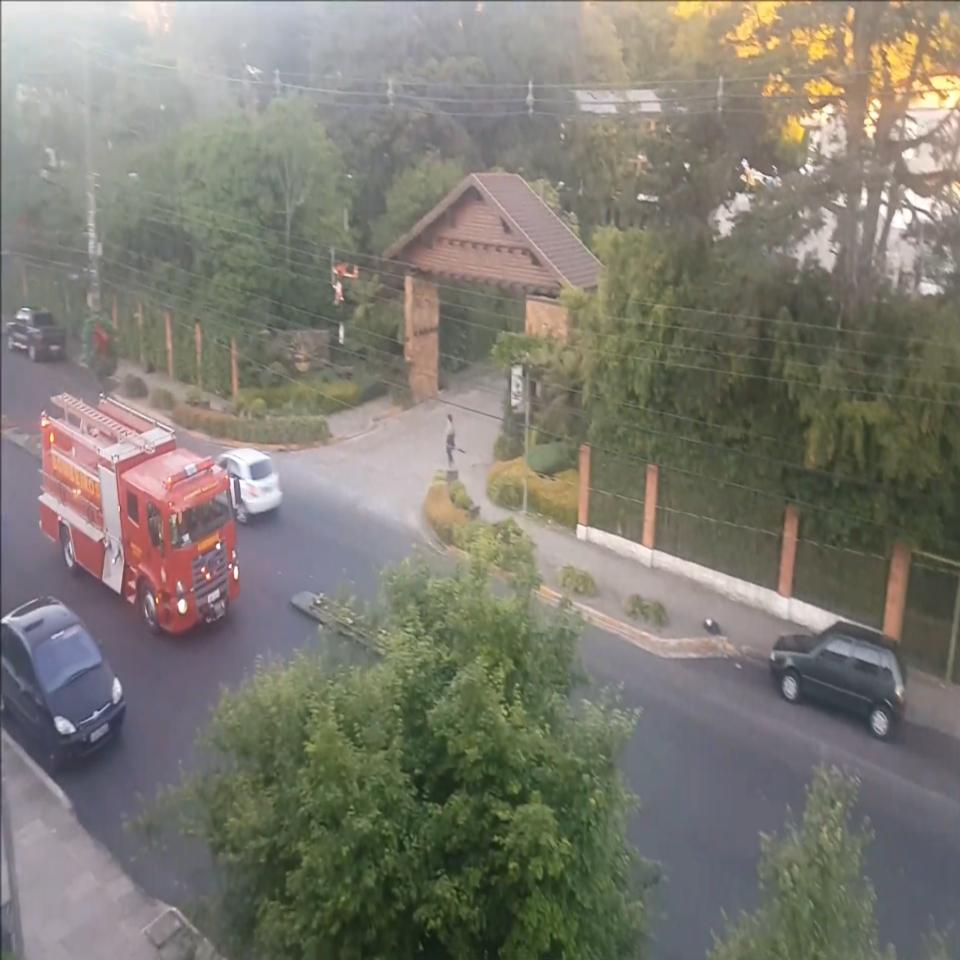viatura: (36, 385, 246, 639)
